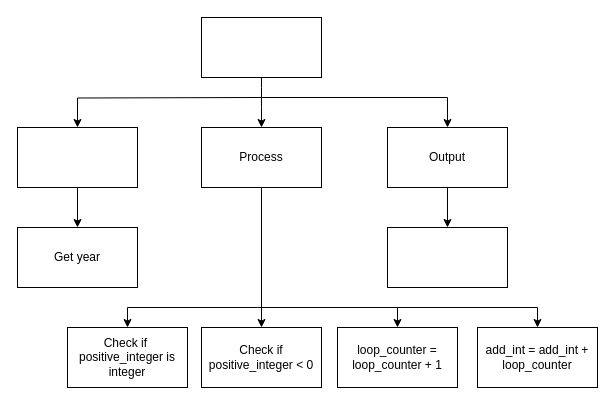
Image size: 615x405. Some labels were removed from this diagram. Each missing label, with the box of its shape:
Input: (16, 126, 138, 188)
Show what add_int is when loop_counter is < positive_integer: (386, 226, 508, 288)
while loop: (200, 16, 322, 78)
